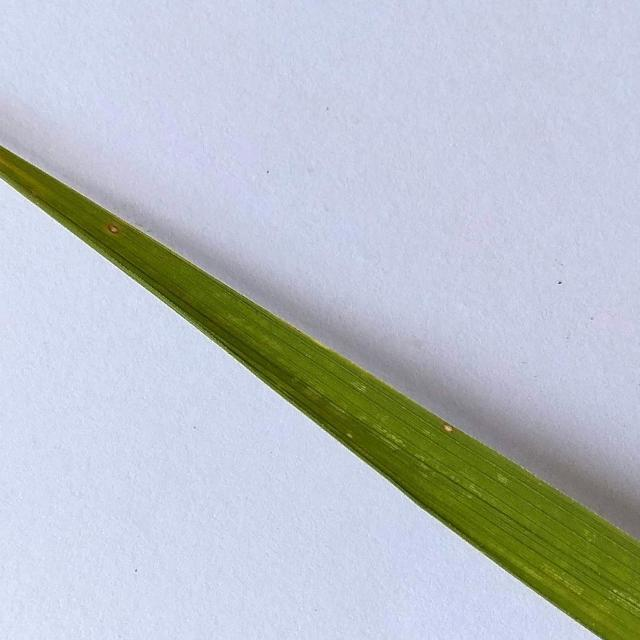Blast: (106, 222, 119, 235), (443, 423, 455, 435)
